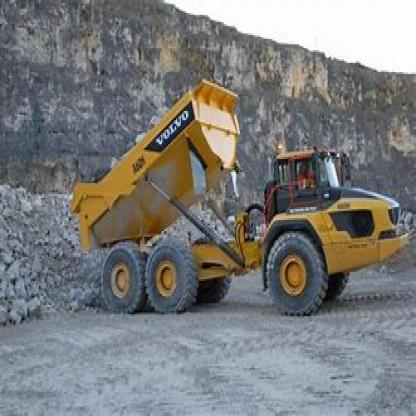dump_truck: (69, 76, 409, 314)
